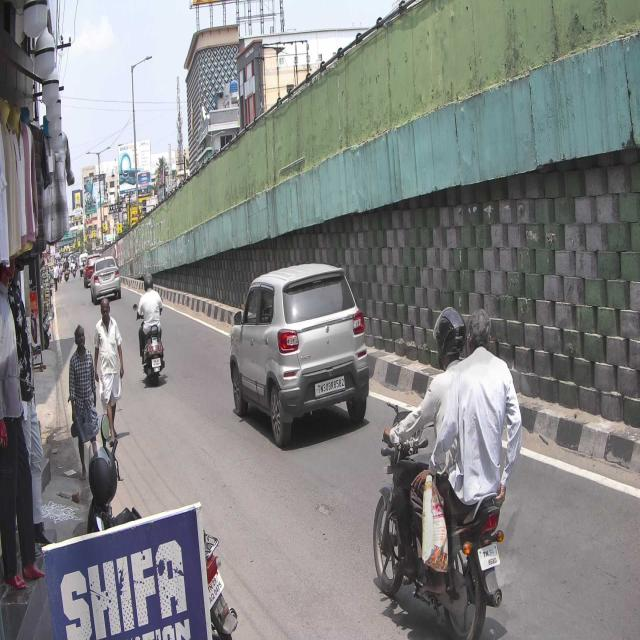double_rider: (374, 304, 514, 640)
